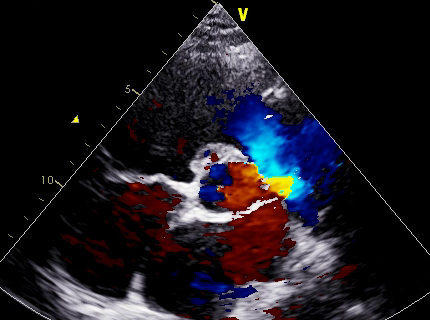PR: (249, 167, 321, 250)
